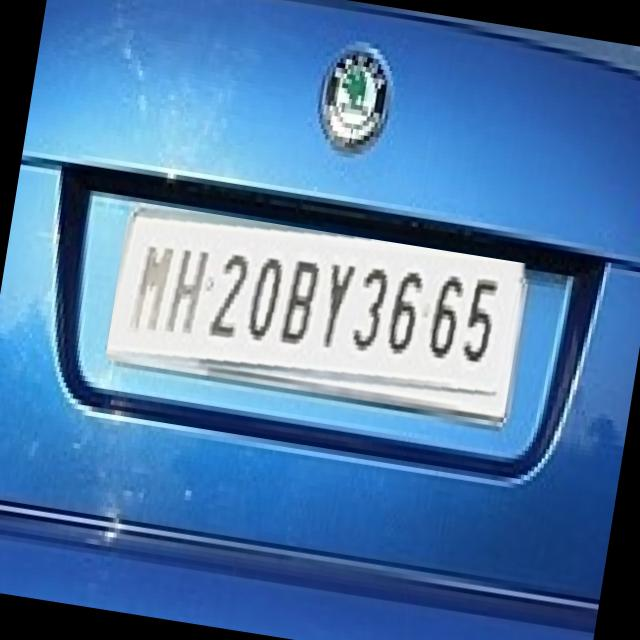Plate: (107, 203, 529, 424)
